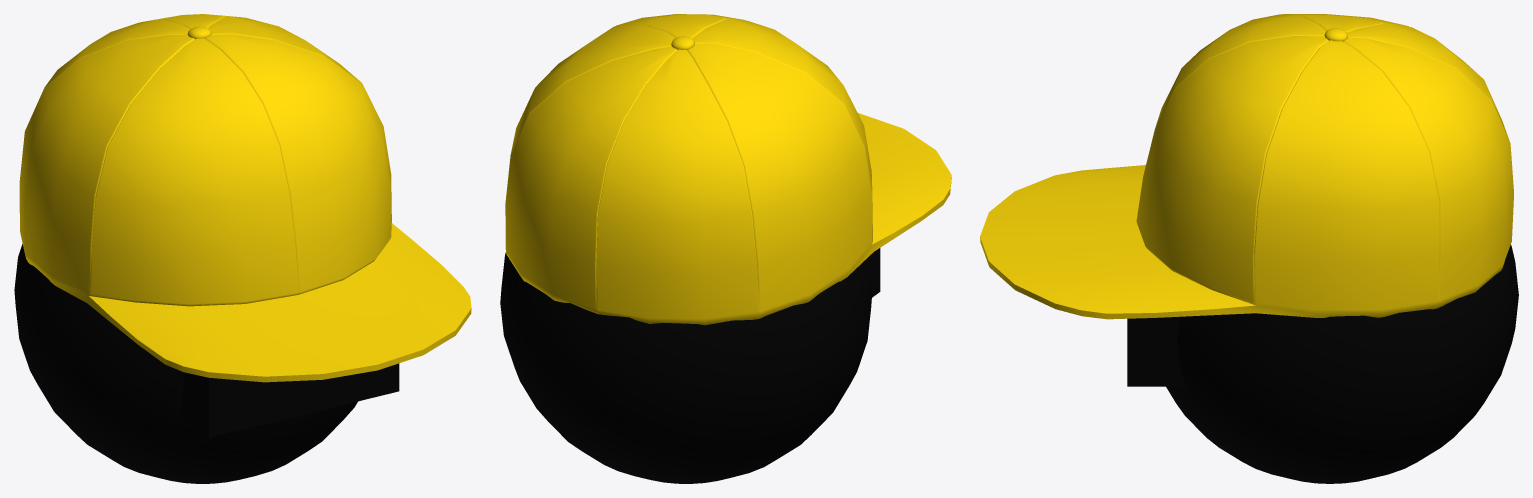
Rendered from wear_hat.obj.
3 views of the same model, side by side, from view 1: azimuth 30°, elevation 25°; view 2: azimuth 150°, elevation 25°; view 3: azimuth 270°, elevation 25° (orthographic).
Parts seen in each view (by area): view 1: wear_hat; view 2: wear_hat; view 3: wear_hat.
Boxes of the visible parts, x1,y1,x2,y2 form: wear_hat: (14, 14, 471, 483); wear_hat: (500, 14, 951, 483); wear_hat: (980, 14, 1518, 483).
Bounding box in the file's own units: 2 × 2.55 × 2.85.
1 material, 1 textured.
